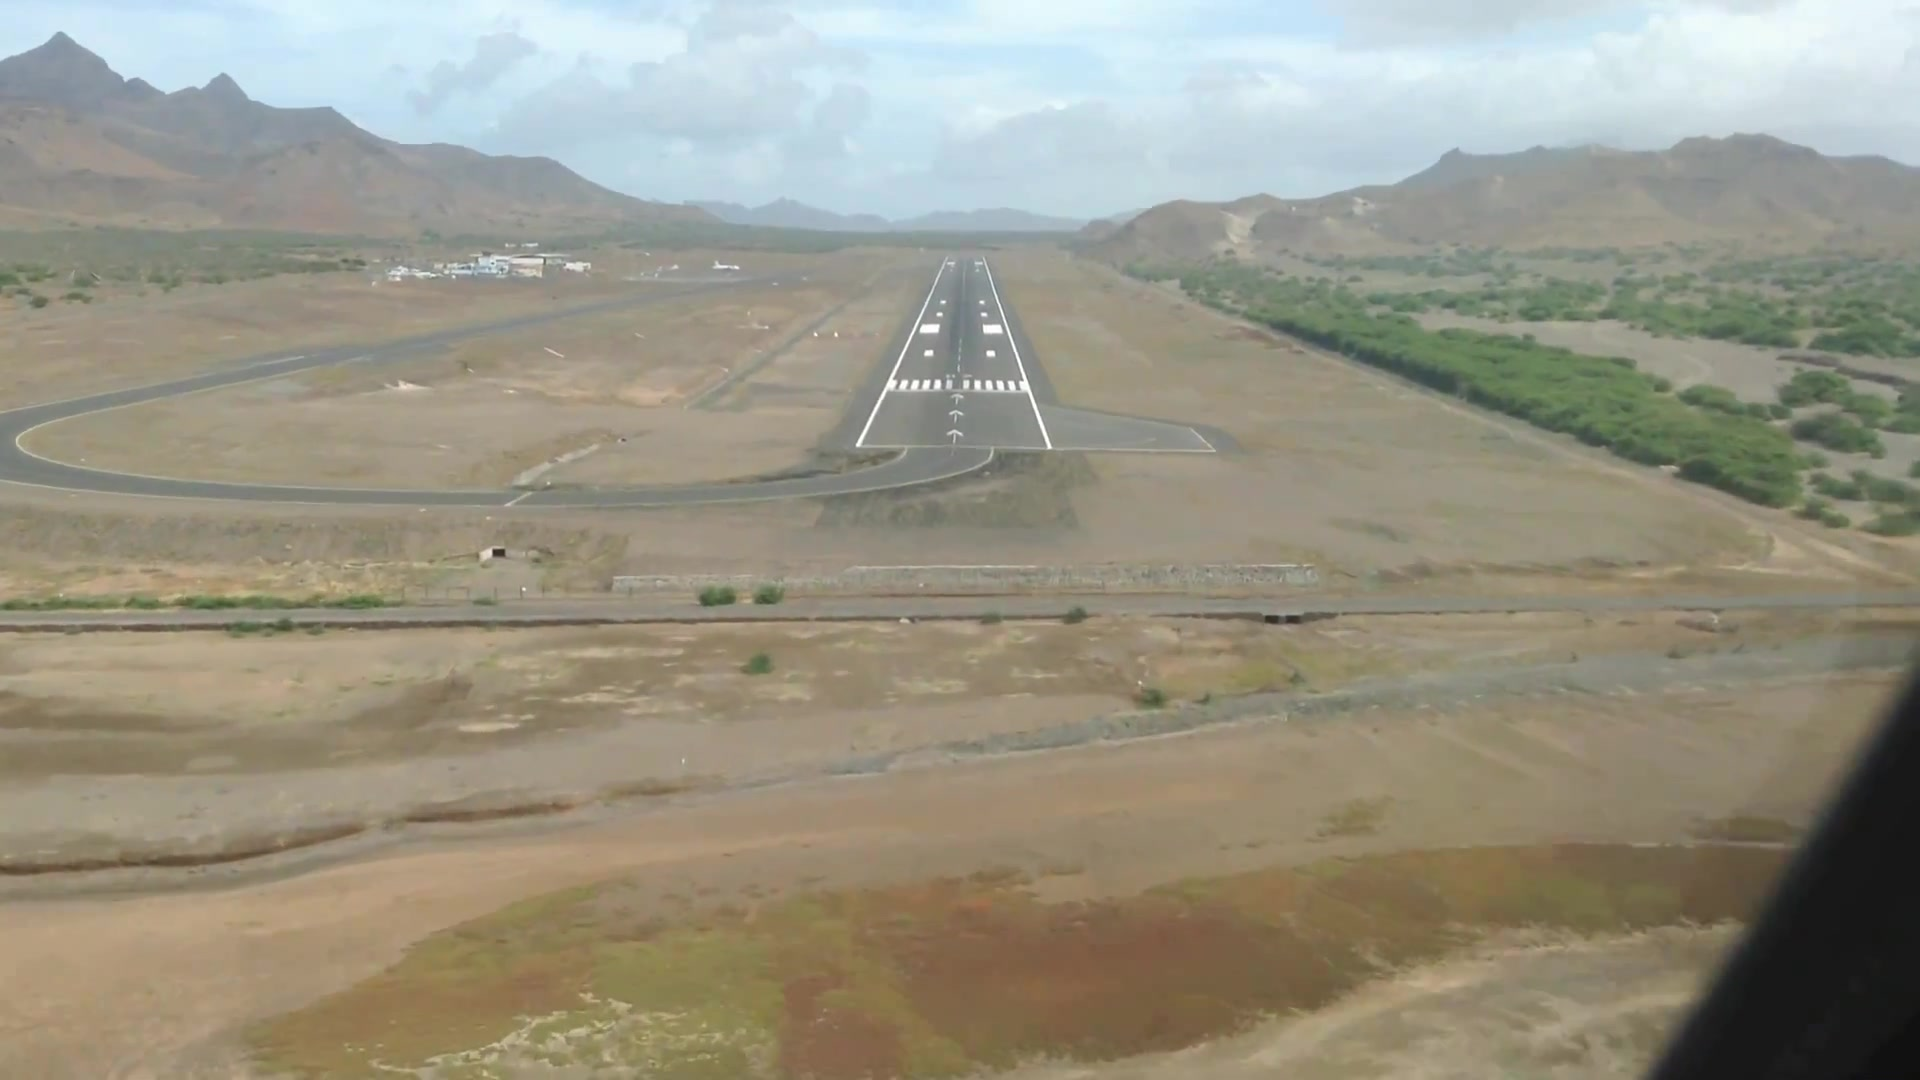entrance: (881, 378, 1029, 394)
runway: (858, 251, 1054, 448)
